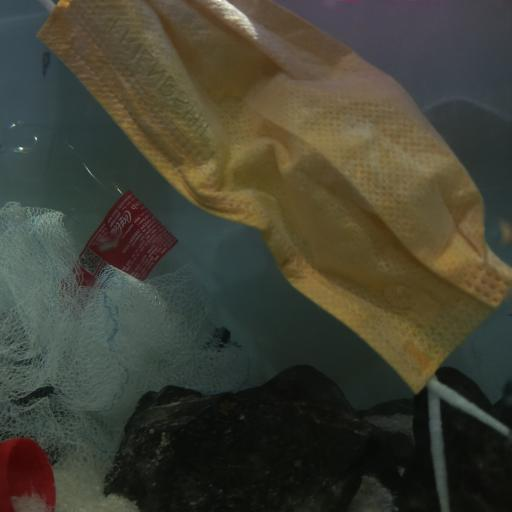bottle_cap: (0, 436, 57, 512)
mask: (39, 0, 512, 512)
net: (0, 200, 247, 487)
plastic_bottle: (1, 119, 242, 354)
